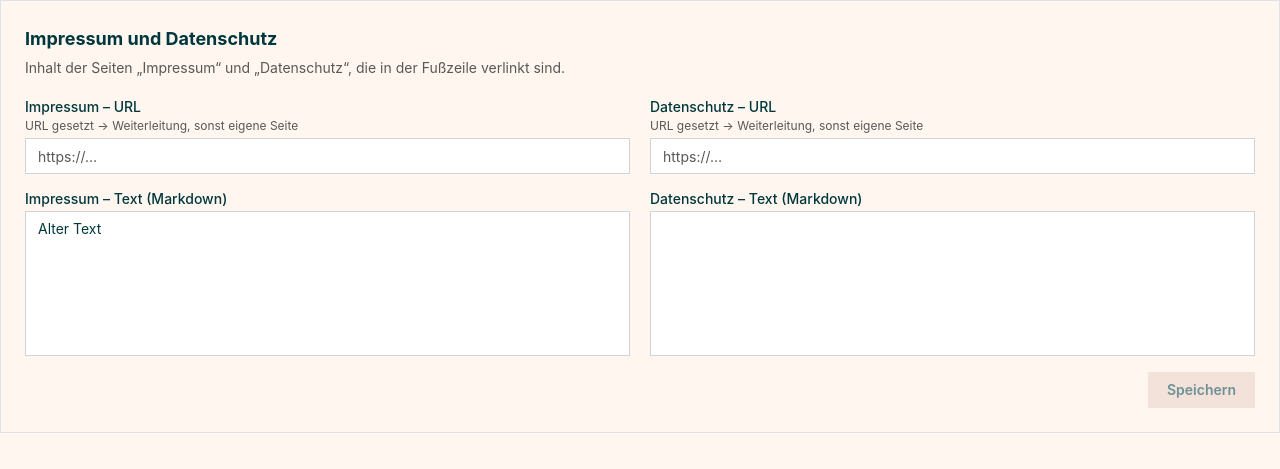
Test: LegalSettingsCard › blocks saving a URL without http(s)
Type "example.org" into the field labelled "Impressum – URL" at (328, 156), box [25, 138, 630, 174]
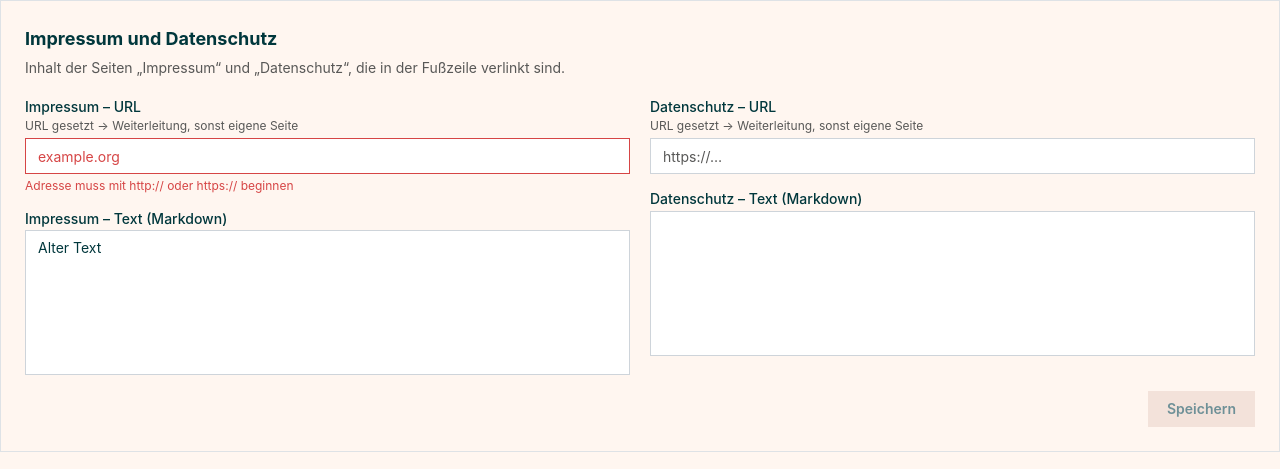
Check: the button "Speichern" is disabled, box [1148, 392, 1255, 428]
Check: the text "Adresse muss mit http:// oder https:// beginnen" is shown, box [25, 178, 294, 193]
